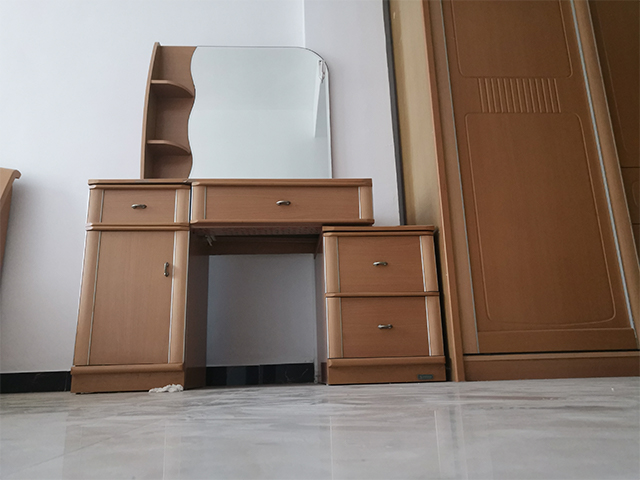cabinet: (67, 168, 447, 394)
